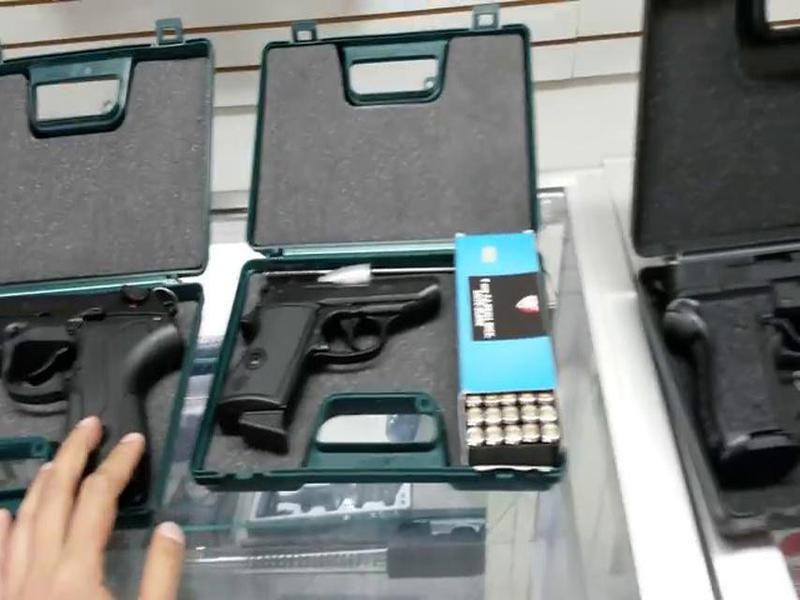Pistola: (234, 261, 453, 438)
